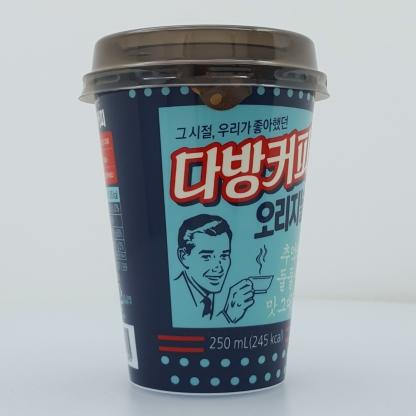----------: (78, 24, 330, 394)
